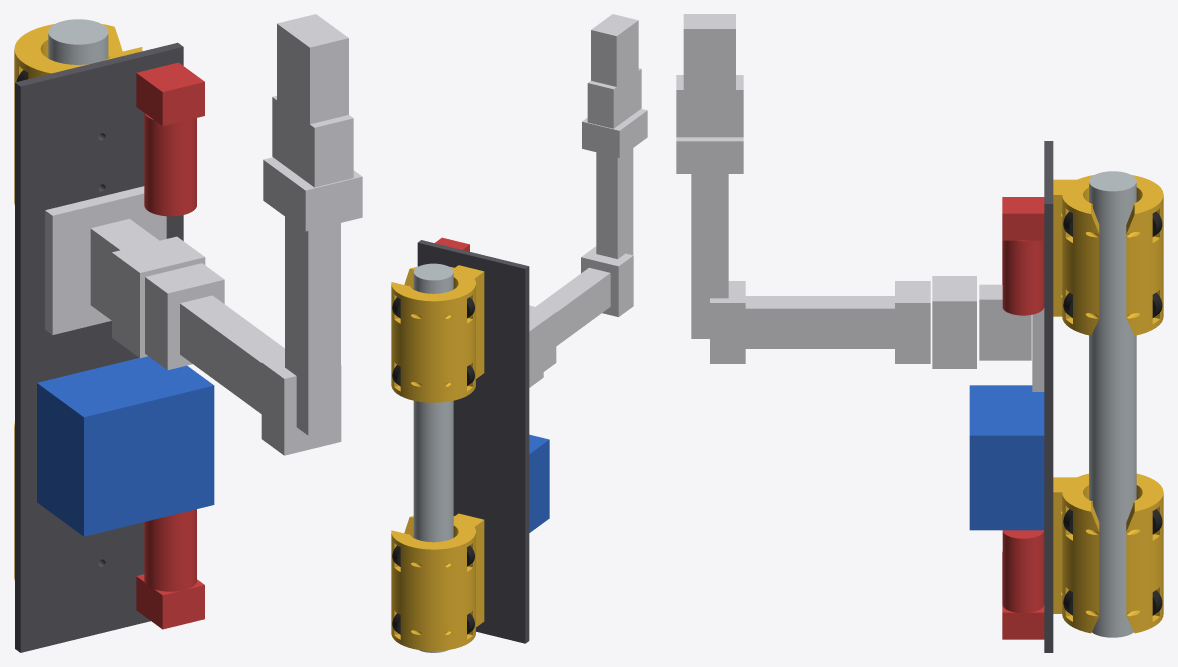
Rendered from cart-assembly-v1.glb.
3 renders of one model, left to right at view 1: azimuth 30°, elevation 25°; view 2: azimuth 150°, elevation 25°; view 3: azimuth 270°, elevation 25°, orthographic. The views are drawn at different scales.
Visible parts, largest first — view 1: so101_arm_envelope, base_plate, battery, drive_motors, track_pipe, hand_A_sleeve; view 2: base_plate, so101_arm_envelope, hand_A_sleeve, hand_B_sleeve, track_pipe, battery, hand_B_wheels, hand_A_wheels; view 3: so101_arm_envelope, track_pipe, hand_A_sleeve, hand_B_sleeve, battery, drive_motors, base_plate, hand_A_wheels, hand_B_wheels.
Boxes of the visible parts, box(x1,y1,x2,y2) form: so101_arm_envelope: box(45, 14, 362, 455); base_plate: box(15, 42, 183, 652); battery: box(37, 356, 214, 536); drive_motors: box(136, 62, 204, 629); track_pipe: box(48, 19, 108, 64); hand_A_sleeve: box(14, 24, 142, 204); base_plate: box(417, 240, 529, 643); so101_arm_envelope: box(529, 14, 647, 387); hand_A_sleeve: box(391, 265, 484, 402); hand_B_sleeve: box(391, 513, 484, 650); track_pipe: box(413, 263, 453, 652); battery: box(529, 434, 549, 532); hand_B_wheels: box(392, 545, 474, 634); hand_A_wheels: box(392, 297, 474, 386); so101_arm_envelope: box(676, 14, 1044, 391); track_pipe: box(1089, 171, 1136, 637); hand_A_sleeve: box(1053, 175, 1163, 335); hand_B_sleeve: box(1053, 473, 1163, 633); battery: box(969, 385, 1044, 530); drive_motors: box(1002, 197, 1044, 639); base_plate: box(1044, 141, 1053, 652); hand_A_wheels: box(1063, 211, 1162, 317); hand_B_wheels: box(1063, 509, 1162, 615).
Size of the model in its own units: 100 by 444 by 326.
